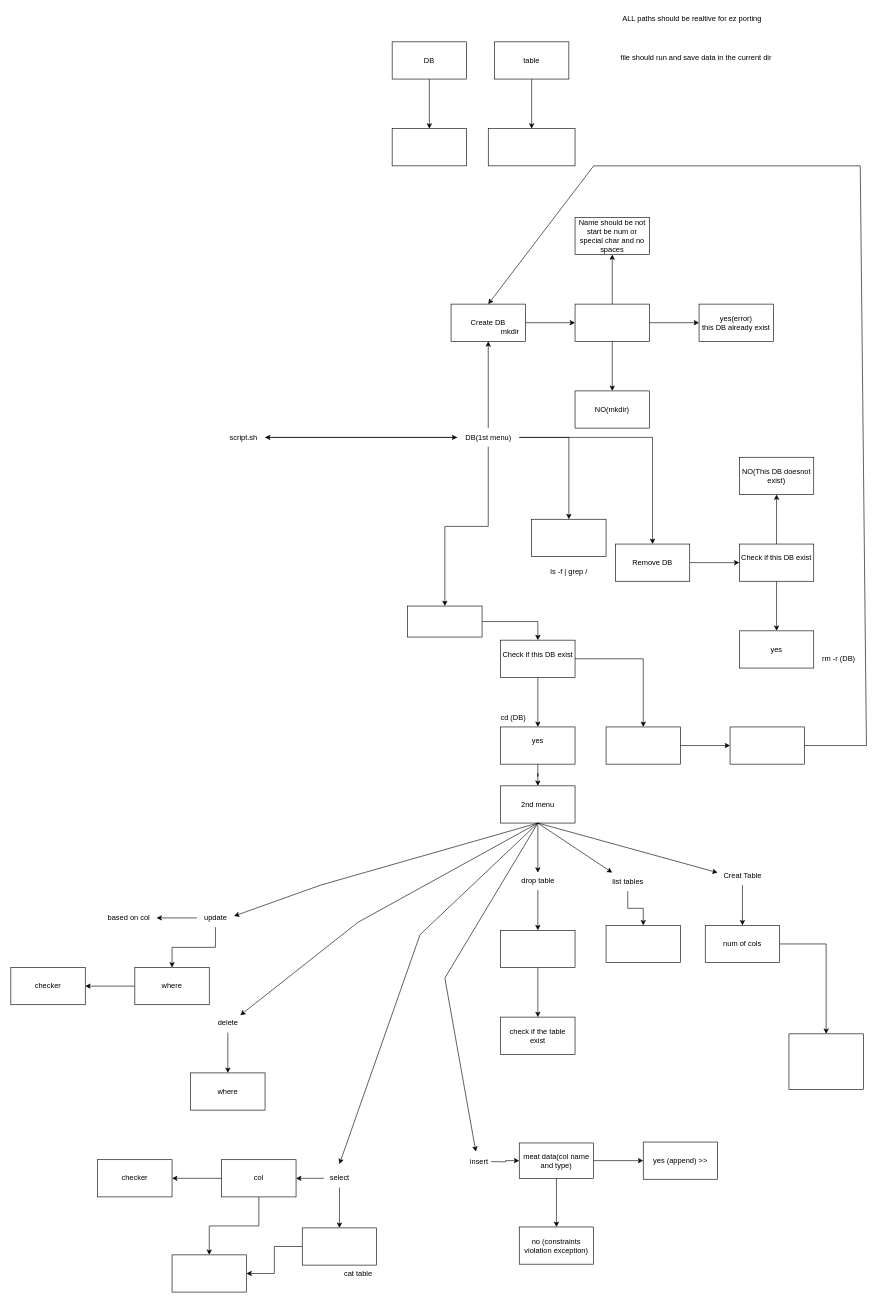
This 882x1303 diagram has some shape labels left out. Here are the shapes that lost their labels. From the top down, the box of each, then its label:
(392, 128, 467, 166): Folder
(488, 128, 575, 166): 2 file(data-meta)
(574, 303, 649, 341): check the name if exist
(531, 519, 606, 556): list DB(ls)
(407, 605, 482, 637): Connect
(605, 726, 680, 764): No(this DB doesnot exist )
(729, 726, 804, 764): give option of creation
(500, 930, 575, 968): rm (table name)
(605, 925, 680, 963): ls (not meta files)
(788, 1033, 863, 1090): make pk first col check typ(str or number), no special char or start with number
(302, 1227, 377, 1265): all
(171, 1254, 246, 1292): where with (awk)
